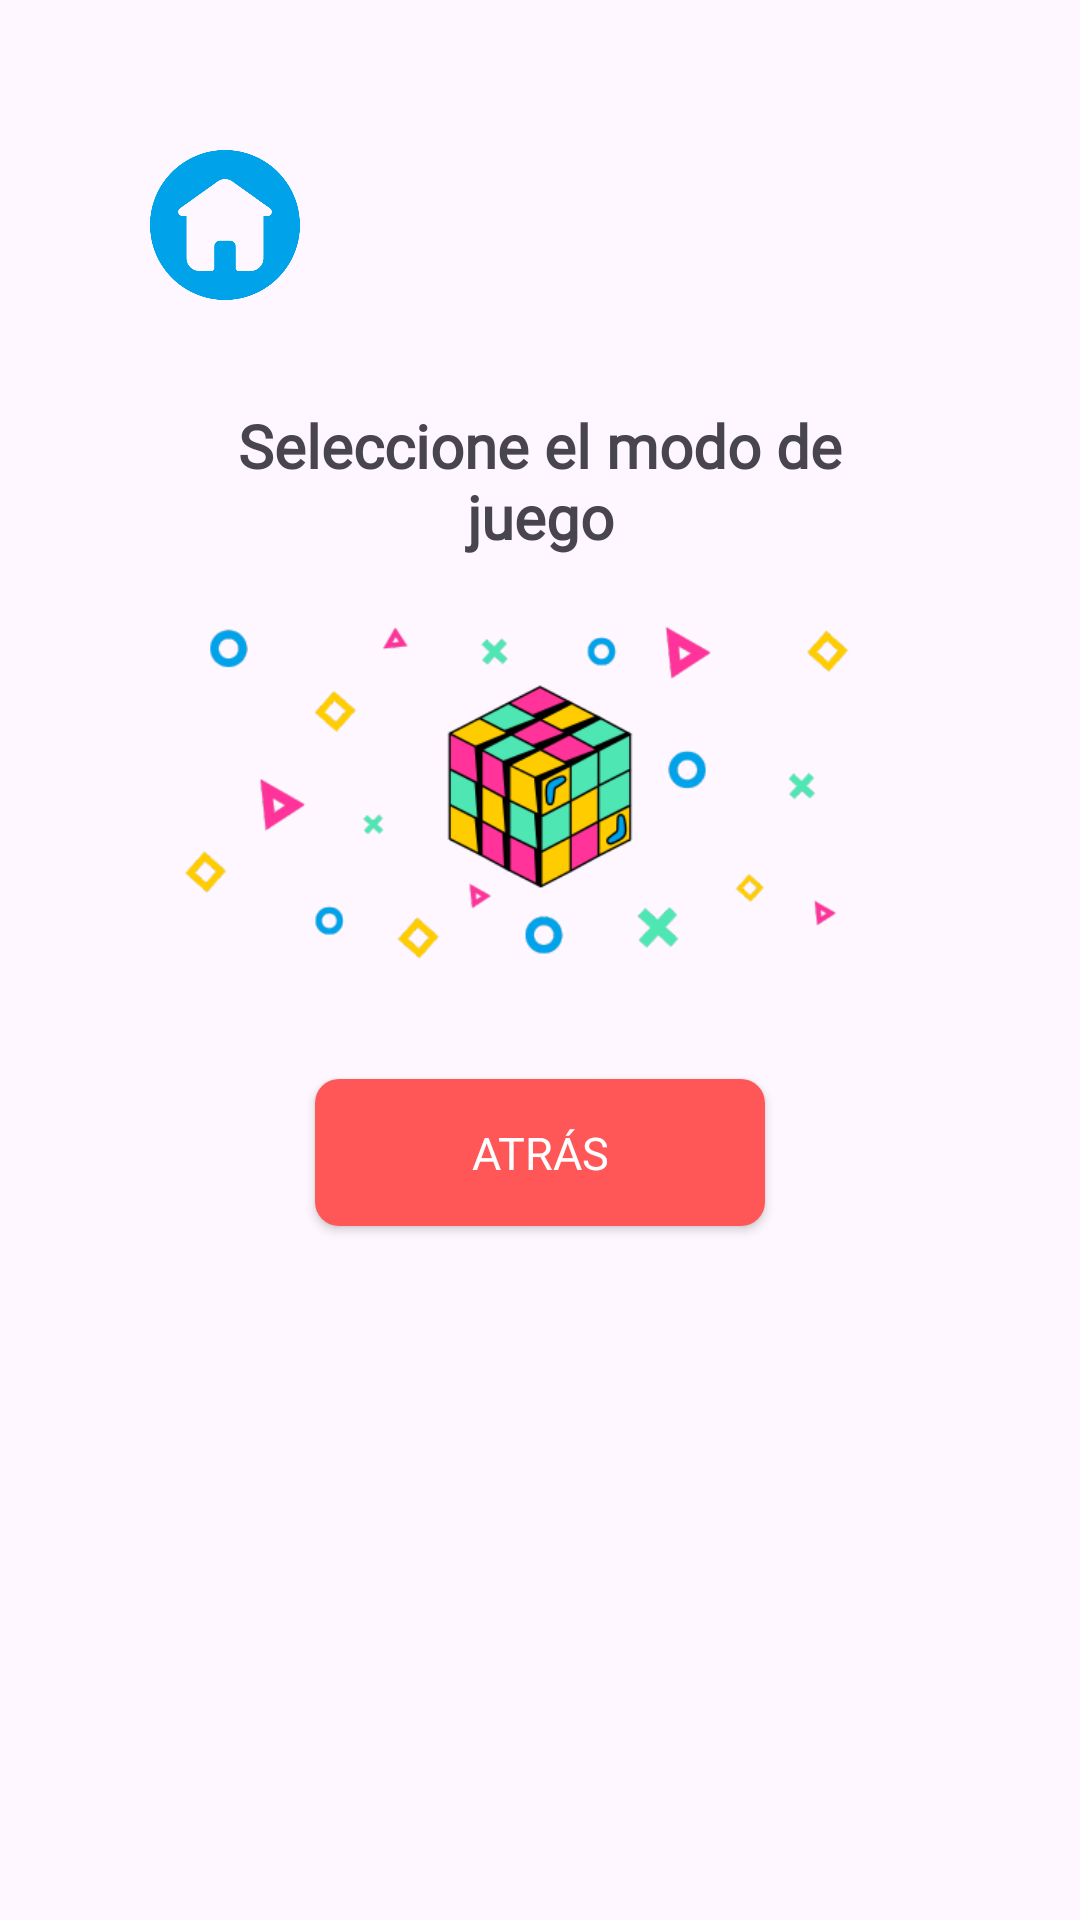

Icons on this 1080×1920 Android screen, each with the point to tap as (x,y):
home: (225,225)
